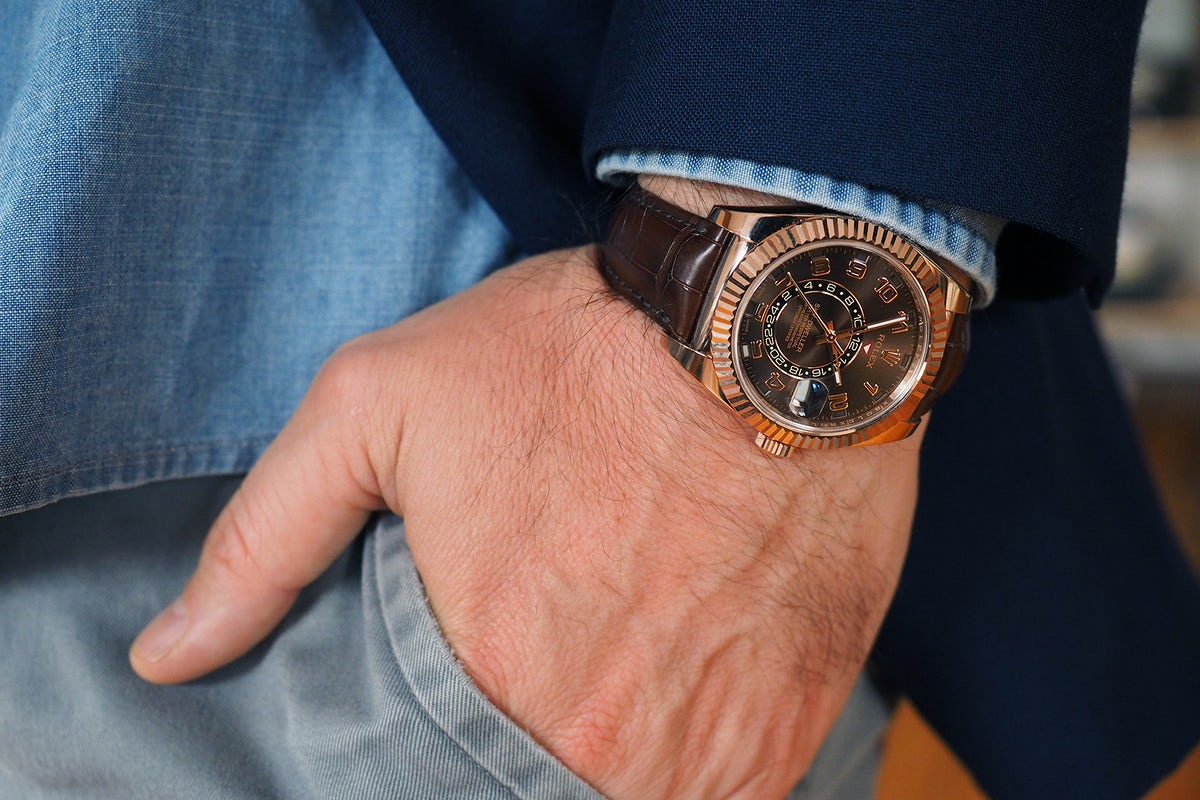clock: (736, 242, 924, 436)
